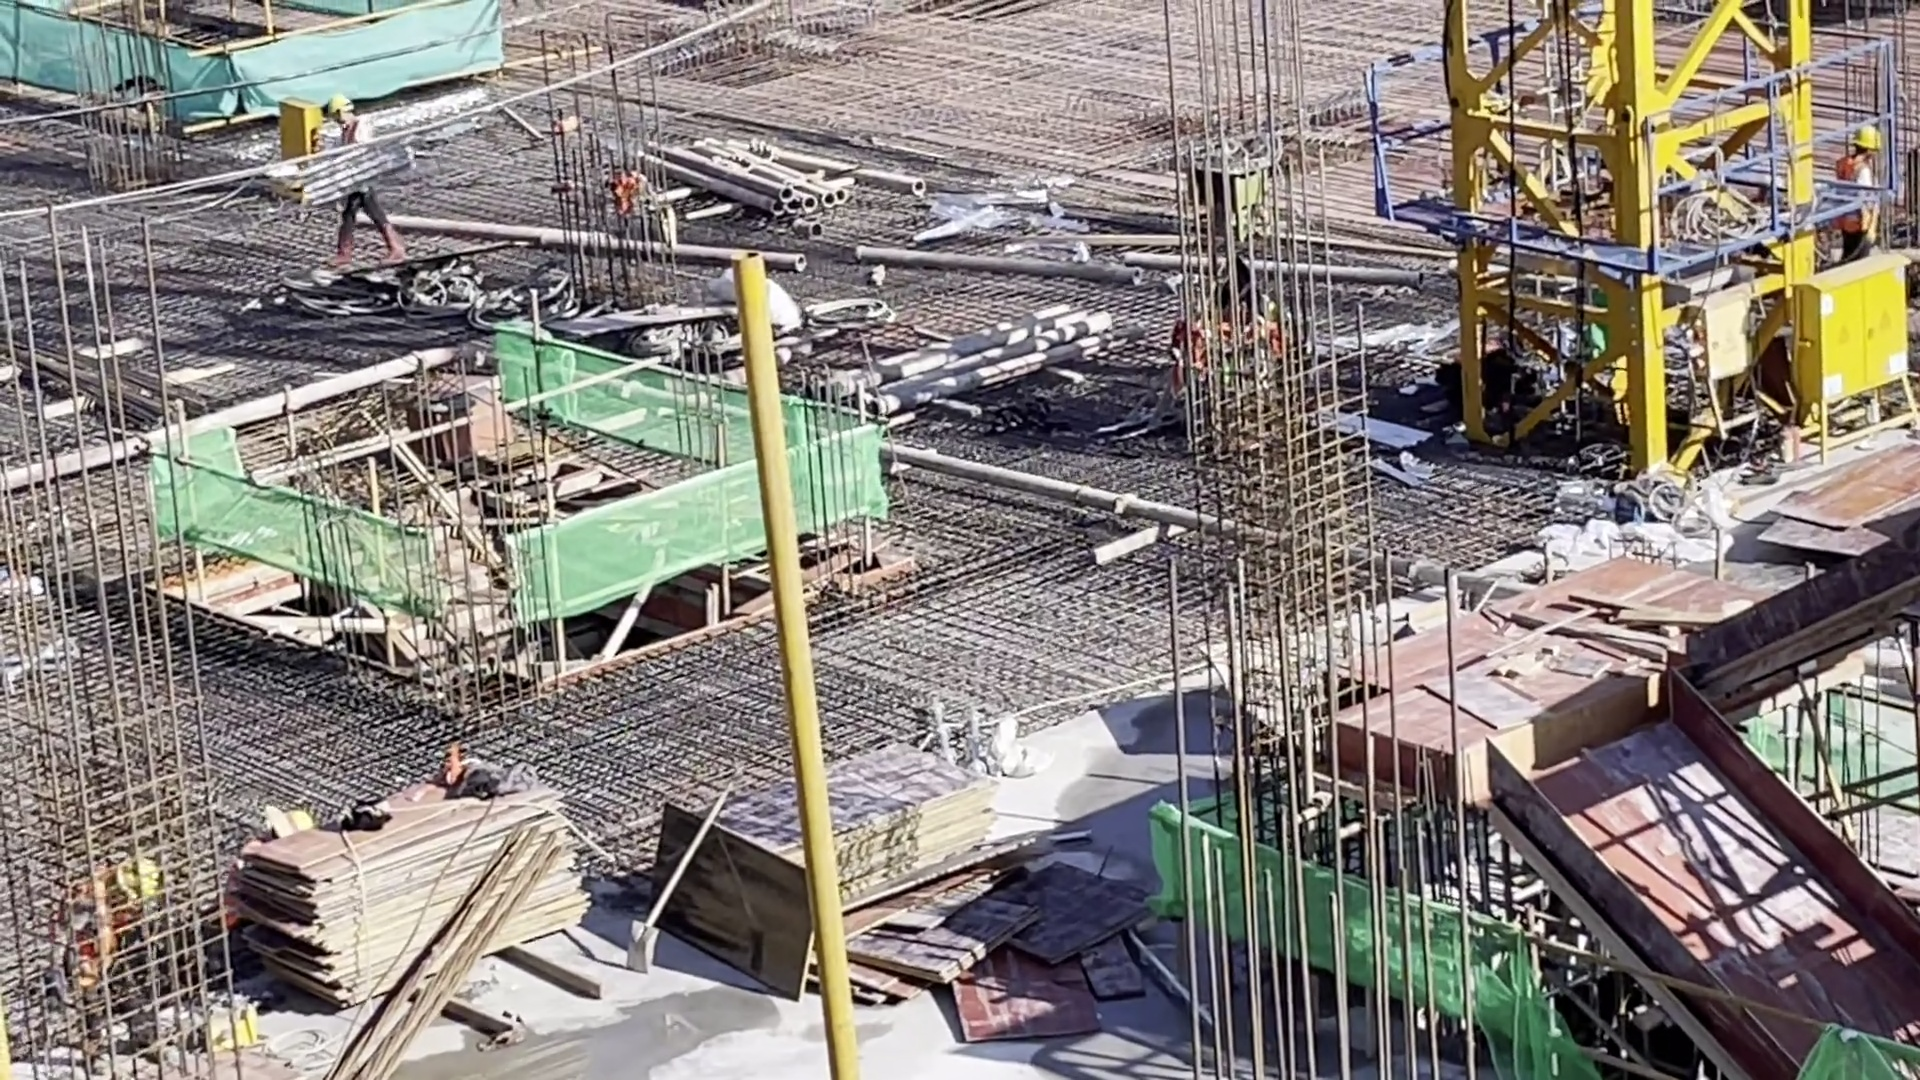board: (632, 714, 1091, 1009), (152, 750, 638, 1002)
ebox: (1774, 250, 1920, 450)
helmet: (117, 853, 164, 900), (321, 91, 363, 124), (1851, 123, 1881, 152)
person: (62, 849, 190, 1071), (310, 91, 410, 279), (1836, 115, 1888, 249)
scaffold: (642, 109, 943, 230)
vest: (55, 880, 145, 994), (1838, 155, 1880, 246)
